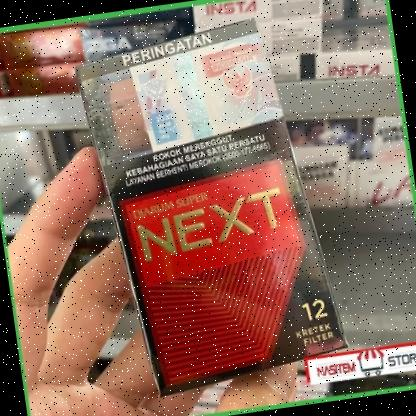bungkus rokok: (72, 1, 354, 406), (331, 95, 416, 213)
